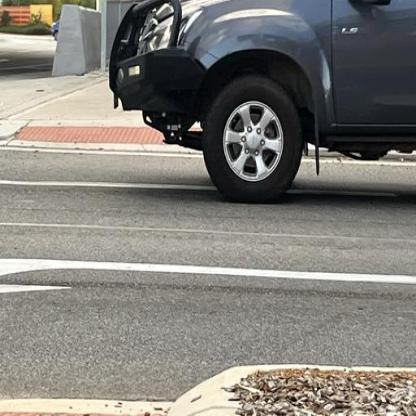Tire: (202, 77, 303, 203)
